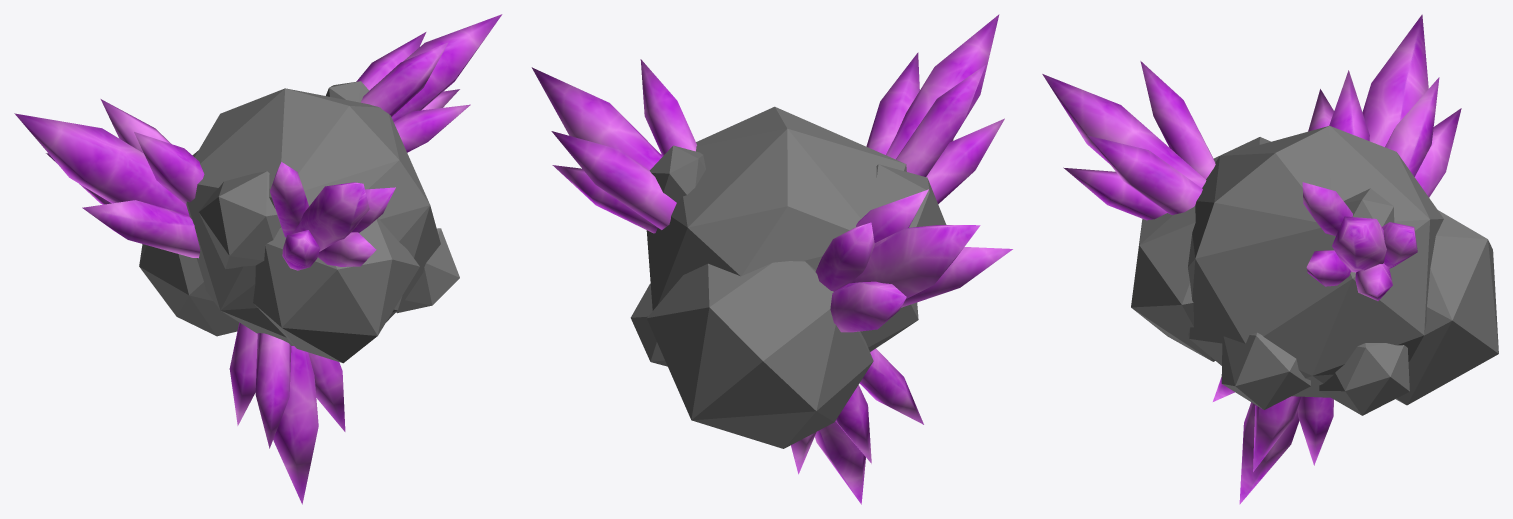
Rendered from MagicstoneOre_blender.fbx.
3 views of the same model, side by side, from view 1: azimuth 30°, elevation 25°; view 2: azimuth 150°, elevation 25°; view 3: azimuth 270°, elevation 25° (orthographic). The views are drawn at different scales.
Visible parts, largest first — view 1: StoneOre.039, MagicstoneParticle.089; view 2: StoneOre.039, MagicstoneParticle.089; view 3: StoneOre.039, MagicstoneParticle.089.
Part boxes in pixels (bbox=[...]): StoneOre.039: bbox=[139, 81, 459, 363]; MagicstoneParticle.089: bbox=[14, 14, 502, 504]; StoneOre.039: bbox=[630, 106, 946, 448]; MagicstoneParticle.089: bbox=[531, 14, 1012, 504]; StoneOre.039: bbox=[1131, 125, 1498, 415]; MagicstoneParticle.089: bbox=[1042, 14, 1461, 504].
Bounding box in the file's own units: 405 × 340 × 340.
